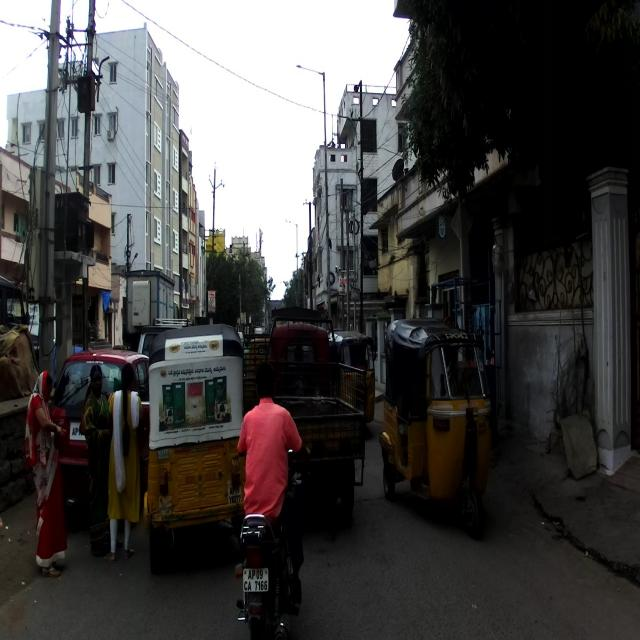autorickshaw: (142, 321, 248, 577), (378, 317, 498, 540), (250, 304, 368, 528), (324, 324, 376, 439)
motorcycle_Hero: (236, 442, 312, 638)
